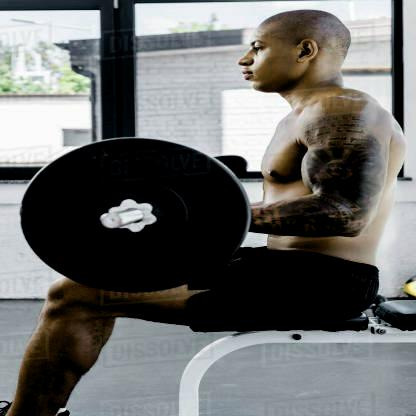Barbell: (98, 209, 130, 230)
